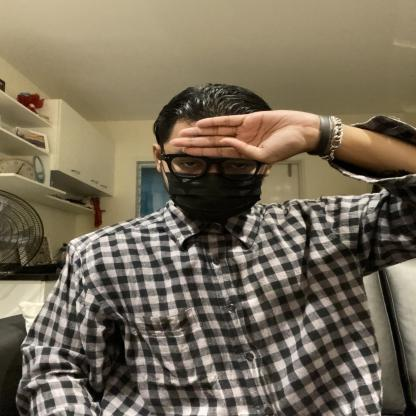Sick: (127, 100, 374, 182)
